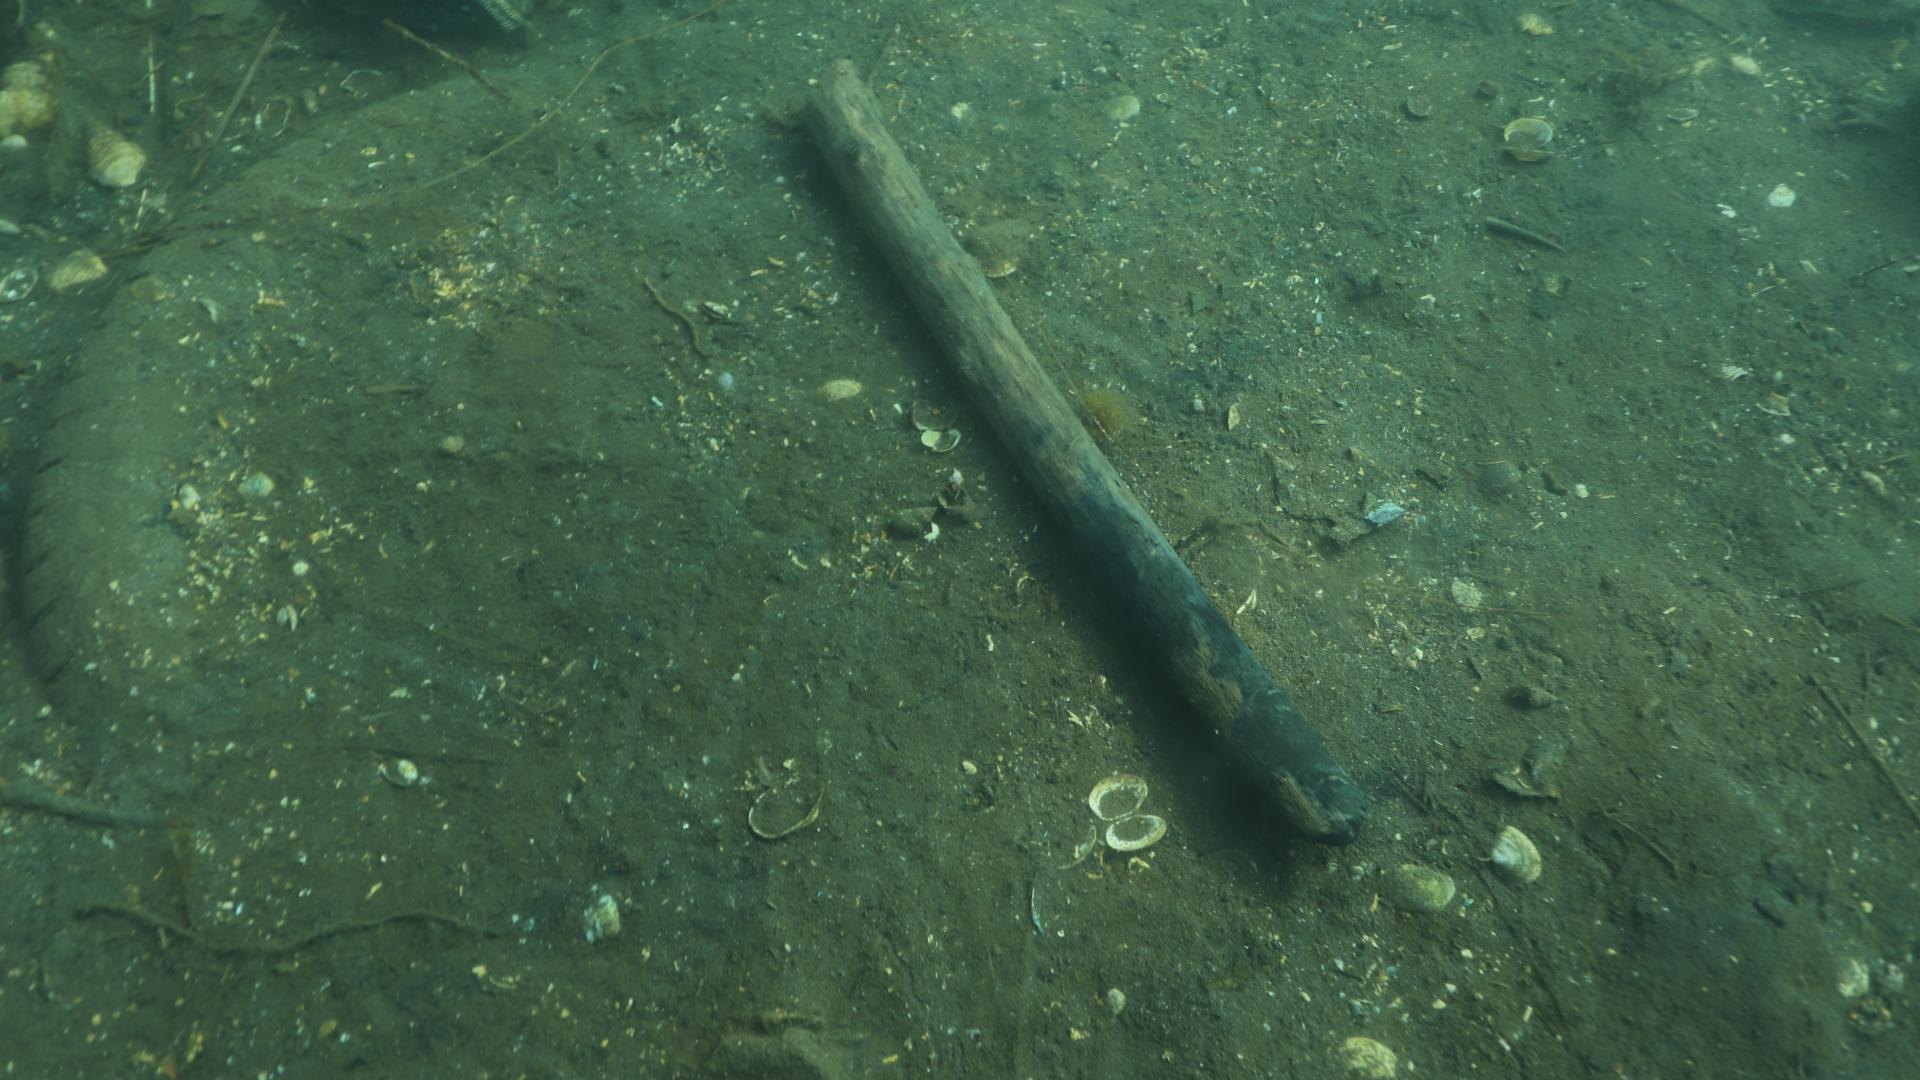wood: (800, 55, 1365, 847)
